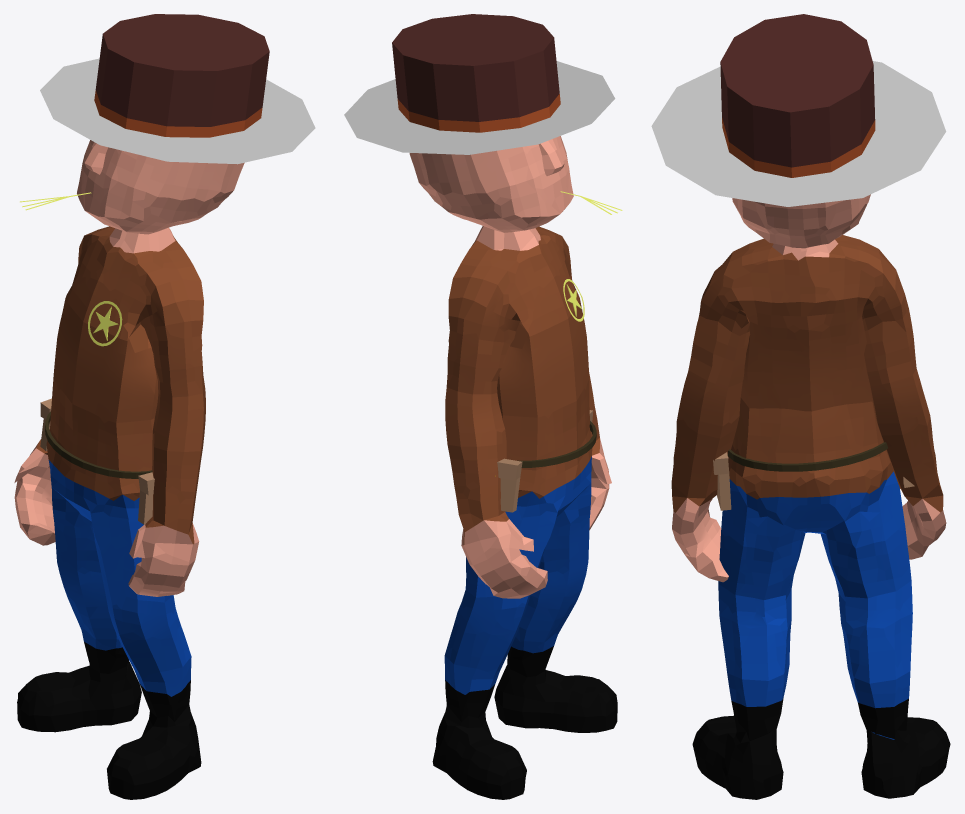
Rendered from NPC_Cowboy.obj.
3 renders of one model, left to right at view 1: azimuth 30°, elevation 25°; view 2: azimuth 150°, elevation 25°; view 3: azimuth 270°, elevation 25°, orthographic. The views are drawn at different scales.
Visible parts, largest first — view 1: body_Humanoide_Base_Base_NPC__characterMedium_body_Huma_7a618a4_, Cylinder.001_Cylinder.002_Cylinder.001_Cylinder.002_Cow_b5f80c1_, Cylinder_Cylinder.001_Cylinder_Cylinder.001_CowboyMaterial_Cylin, Cylinder.003_Cylinder.003_CowboyMaterial_Cylinder.003_Cylinder.0, Cube_Cube.008_Cube_Cube.008_CowboyMaterial_Cube_Cube.008_Cube_Cu; view 2: body_Humanoide_Base_Base_NPC__characterMedium_body_Huma_7a618a4_, Cylinder.001_Cylinder.002_Cylinder.001_Cylinder.002_Cow_b5f80c1_, Cylinder_Cylinder.001_Cylinder_Cylinder.001_CowboyMaterial_Cylin, Cube_Cube.000_Cube_Cube.000_CowboyMaterial_Cube_Cube.000_Cube_Cu, Cylinder.003_Cylinder.003_CowboyMaterial_Cylinder.003_Cylinder.0, nariz_nariz_nariz_1.003_nariz_nariz_nariz_1.003_CowboyMaterial_n; view 3: body_Humanoide_Base_Base_NPC__characterMedium_body_Huma_7a618a4_, Cylinder.001_Cylinder.002_Cylinder.001_Cylinder.002_Cow_b5f80c1_, Cylinder_Cylinder.001_Cylinder_Cylinder.001_CowboyMaterial_Cylin, Cylinder.003_Cylinder.003_CowboyMaterial_Cylinder.003_Cylinder.0, Cube_Cube.008_Cube_Cube.008_CowboyMaterial_Cube_Cube.008_Cube_Cu.
Part boxes in pixels (x1,y1,x2,y2): body_Humanoide_Base_Base_NPC__characterMedium_body_Huma_7a618a4_: [14, 140, 244, 799]; Cylinder.001_Cylinder.002_Cylinder.001_Cylinder.002_Cow_b5f80c1_: [94, 14, 269, 137]; Cylinder_Cylinder.001_Cylinder_Cylinder.001_CowboyMaterial_Cylin: [40, 58, 315, 164]; Cylinder.003_Cylinder.003_CowboyMaterial_Cylinder.003_Cylinder.0: [45, 411, 152, 478]; Cube_Cube.008_Cube_Cube.008_CowboyMaterial_Cube_Cube.008_Cube_Cu: [138, 472, 154, 524]; body_Humanoide_Base_Base_NPC__characterMedium_body_Huma_7a618a4_: [409, 136, 617, 799]; Cylinder.001_Cylinder.002_Cylinder.001_Cylinder.002_Cow_b5f80c1_: [392, 14, 560, 132]; Cylinder_Cylinder.001_Cylinder_Cylinder.001_CowboyMaterial_Cylin: [344, 61, 615, 154]; Cube_Cube.000_Cube_Cube.000_CowboyMaterial_Cube_Cube.000_Cube_Cu: [497, 458, 522, 512]; Cylinder.003_Cylinder.003_CowboyMaterial_Cylinder.003_Cylinder.0: [517, 421, 596, 467]; nariz_nariz_nariz_1.003_nariz_nariz_nariz_1.003_CowboyMaterial_n: [538, 139, 564, 175]; body_Humanoide_Base_Base_NPC__characterMedium_body_Huma_7a618a4_: [671, 194, 950, 799]; Cylinder.001_Cylinder.002_Cylinder.001_Cylinder.002_Cow_b5f80c1_: [720, 14, 875, 177]; Cylinder_Cylinder.001_Cylinder_Cylinder.001_CowboyMaterial_Cylin: [651, 61, 946, 206]; Cylinder.003_Cylinder.003_CowboyMaterial_Cylinder.003_Cylinder.0: [727, 442, 887, 471]; Cube_Cube.008_Cube_Cube.008_CowboyMaterial_Cube_Cube.008_Cube_Cu: [713, 452, 731, 510].
Bounding box in the file's own units: 15.7 × 39.73 × 14.28.
